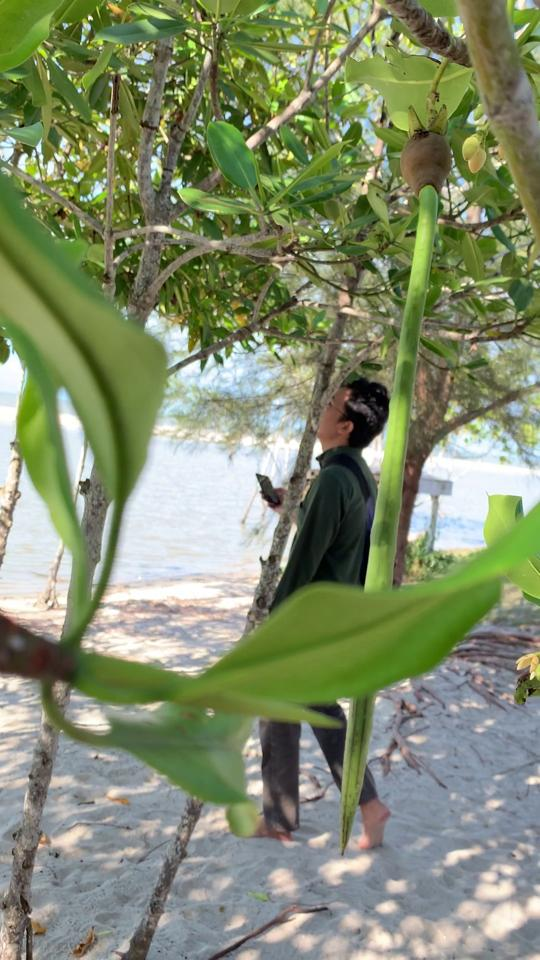setengah matang: (324, 100, 461, 860)
